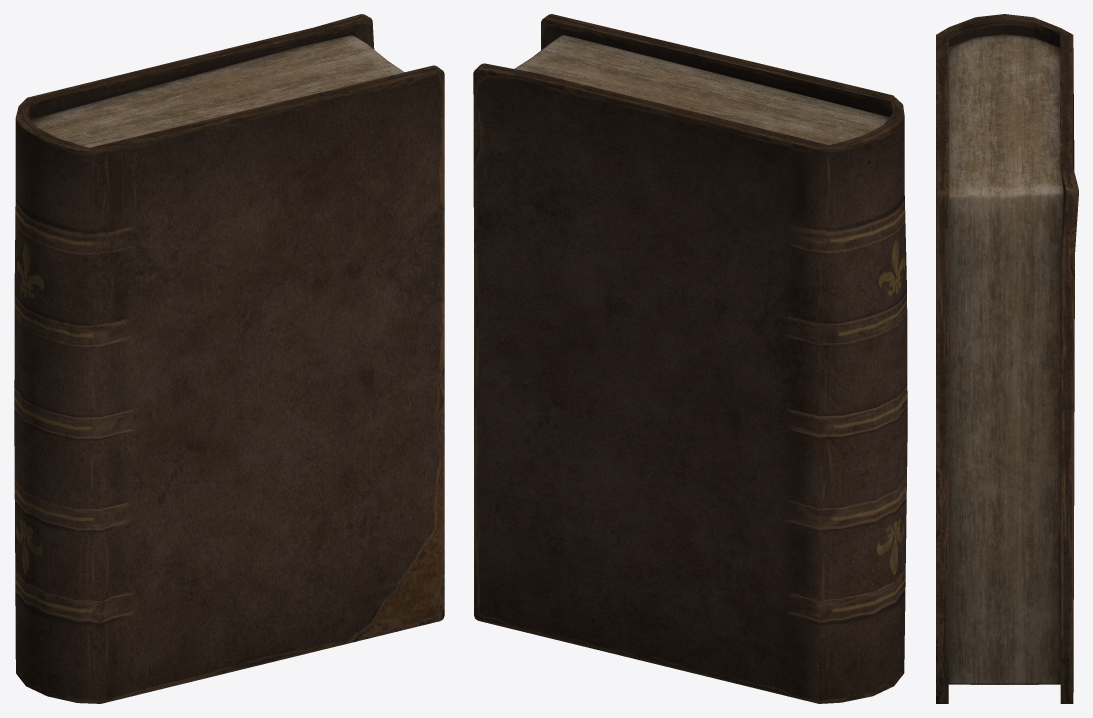
File: SM_Book_2.fbx
The picture shows the model from 3 angles, left to right: view 1: azimuth 30°, elevation 25°; view 2: azimuth 150°, elevation 25°; view 3: azimuth 270°, elevation 25°; orthographic projection. The views are drawn at different scales.
Parts seen in each view (by area): view 1: SM_Book_2_LOD0; view 2: SM_Book_2_LOD0; view 3: SM_Book_2_LOD0.
Part boxes in pixels (x1,y1,x2,y2): SM_Book_2_LOD0: (14,14,444,703); SM_Book_2_LOD0: (473,14,907,703); SM_Book_2_LOD0: (936,14,1078,703).
Size of the model in its own units: 29.39 by 10.16 by 40.6.
